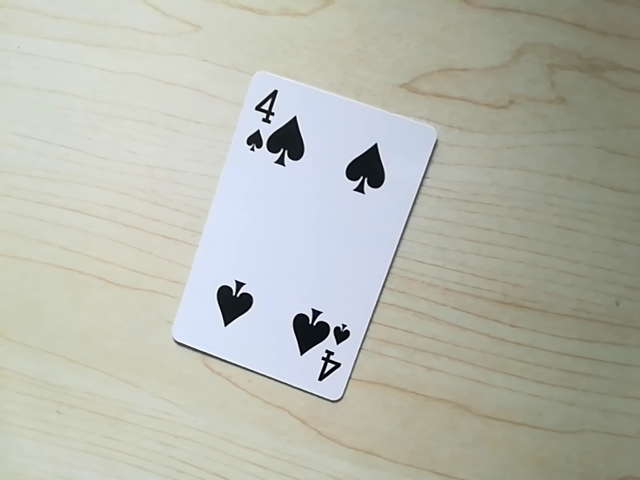ht 4: (240, 80, 287, 161), (310, 316, 352, 394)
